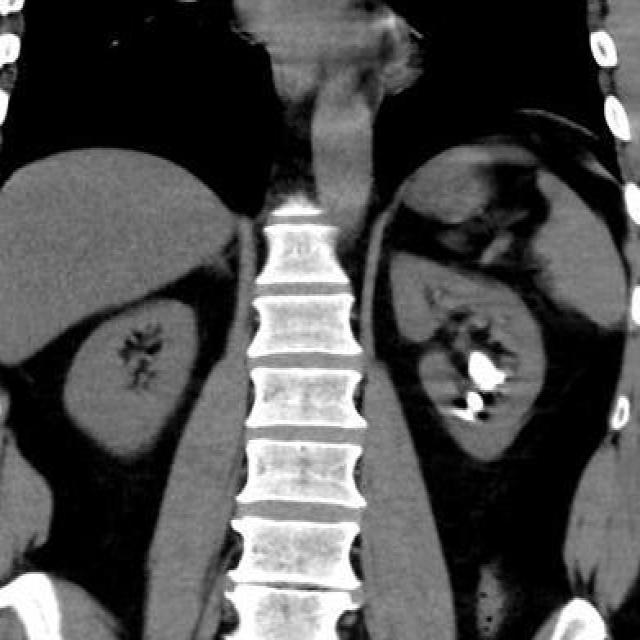Tas_Var: (468, 350, 508, 392), (465, 391, 484, 415), (452, 406, 476, 424)
